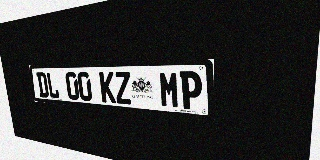0: (77, 72, 92, 101), (65, 72, 80, 100)
D: (36, 72, 49, 98)
K: (99, 72, 116, 103)
L: (46, 72, 60, 99)
M: (159, 71, 180, 108)
P: (179, 71, 202, 110)
Z: (114, 72, 132, 105)
